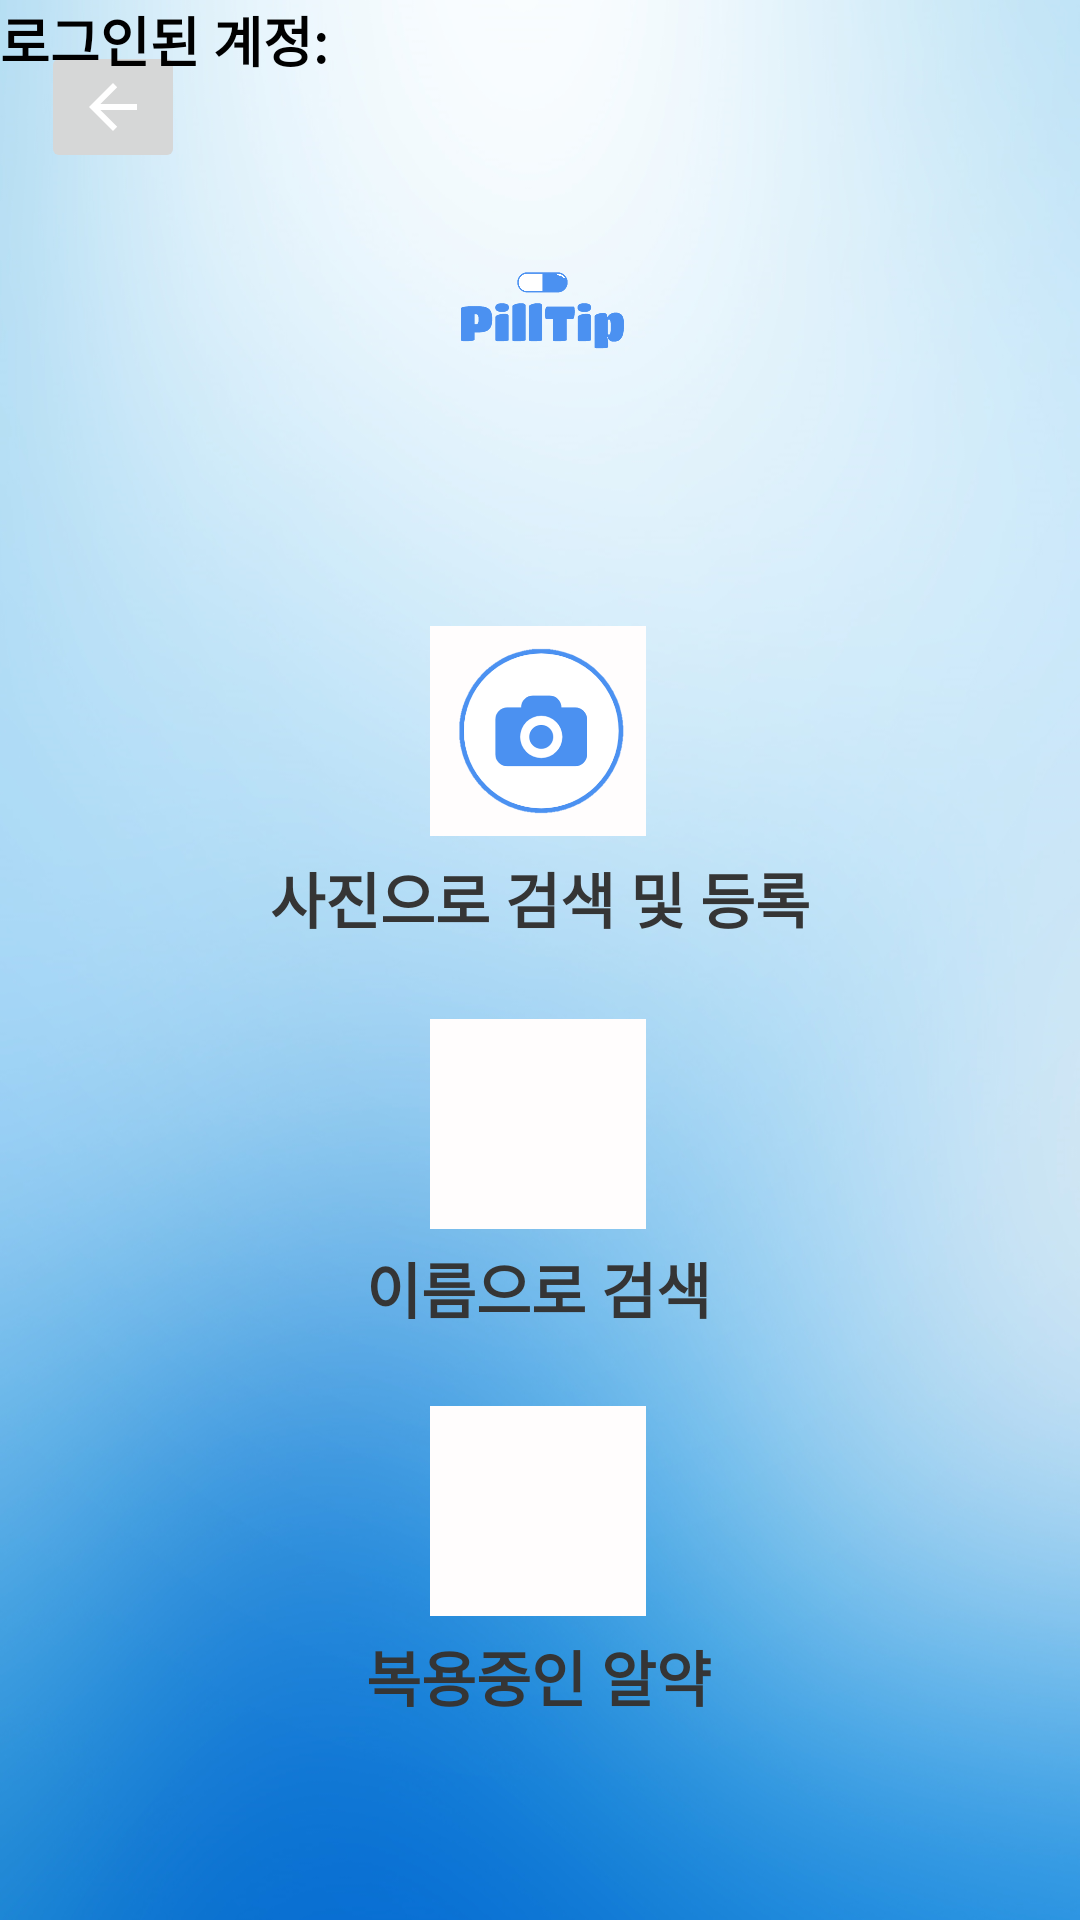

Icon click points for this 1080*1920 phone screenshot, format (x=x, y=y):
camera: (x=538, y=731)
